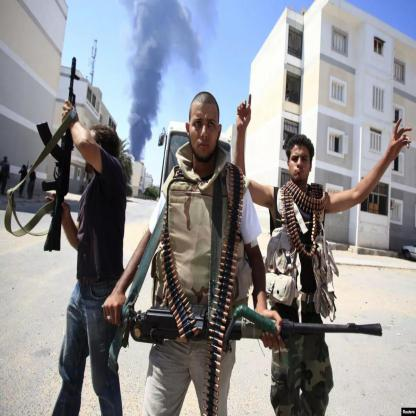rifle: (94, 306, 393, 358), (34, 55, 84, 254)
